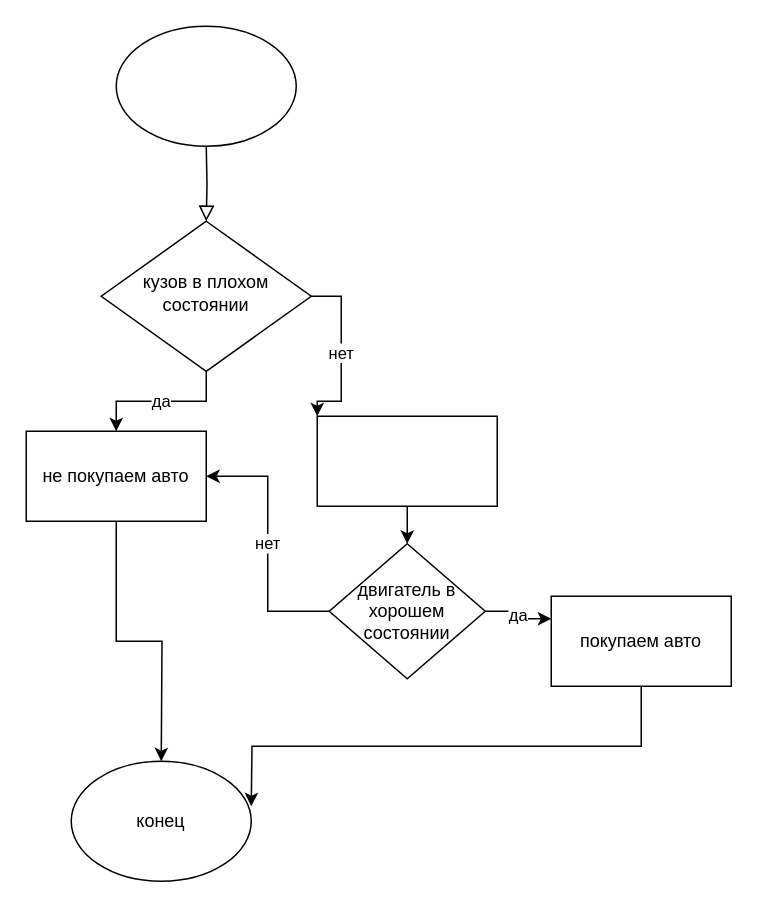
The diagram is 758 pixels wide and 908 high, and some of its shapes have lost their labels. The centre of each missing label's shape, as x and y in pixels:
начало: the point at 205,85
проводим осмотр дальше: the point at 406,460
